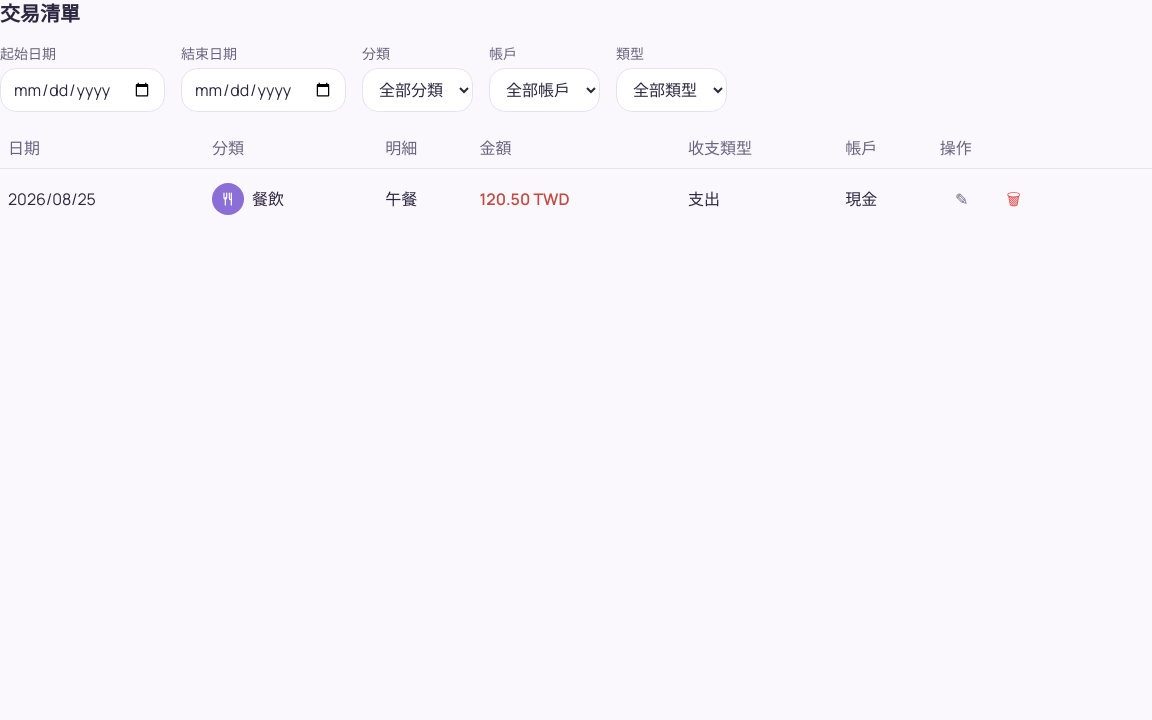
Test: TransactionList › 點列開啟編輯表單並預帶既有值
Click the button named "編輯".
click(962, 199)  # box [940, 177, 984, 221]
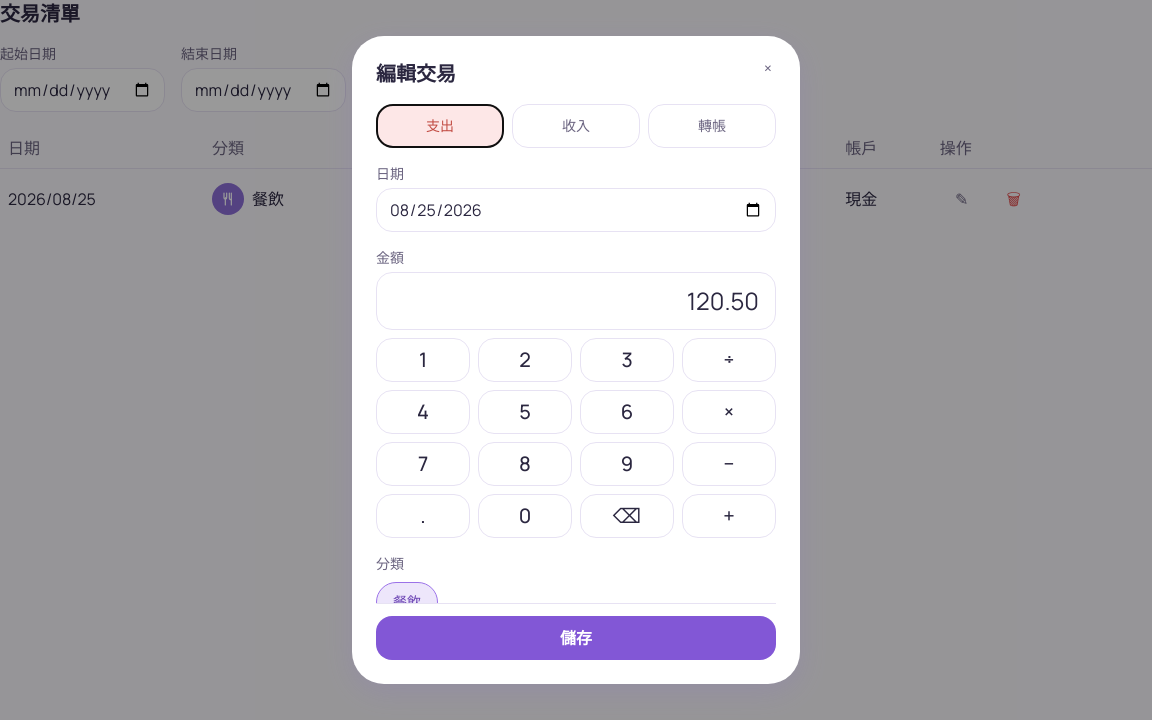
Check: the heading "編輯交易" is shown, box [376, 60, 456, 87]
Check: the field named "金額" holds "120.50", box [376, 272, 776, 330]
